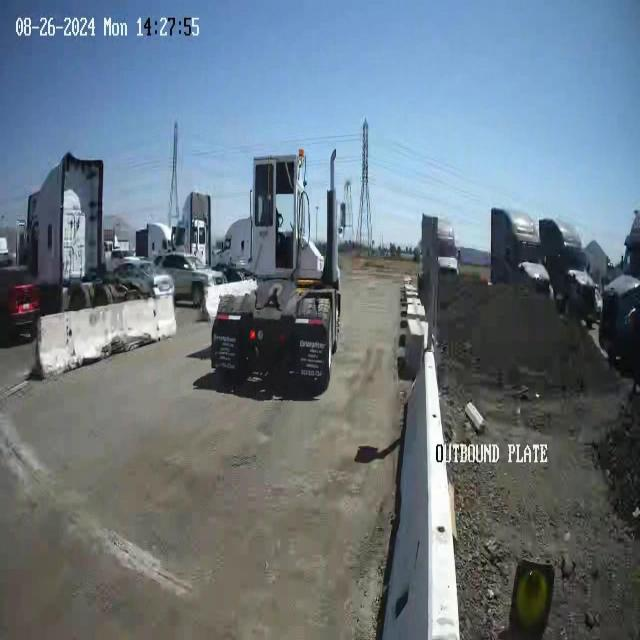TRUCK_IN: (210, 148, 342, 396)
